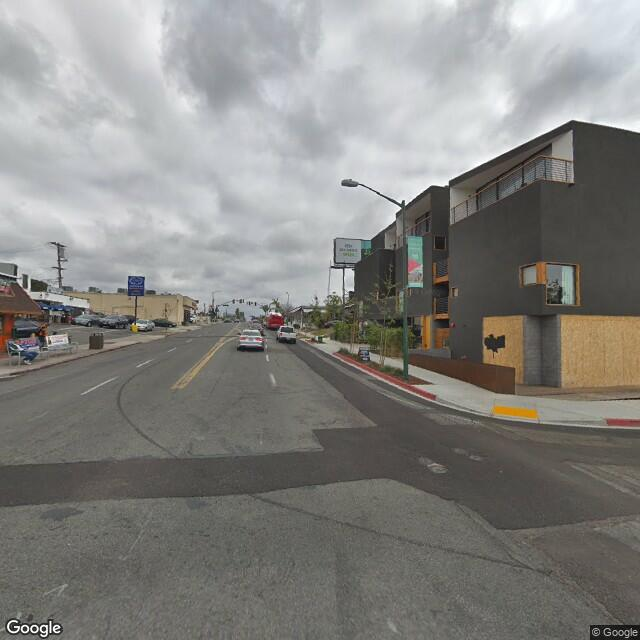light: (340, 173, 360, 188)
road line: (158, 337, 219, 401), (76, 356, 145, 393), (261, 339, 281, 401)
window: (544, 258, 581, 309)
